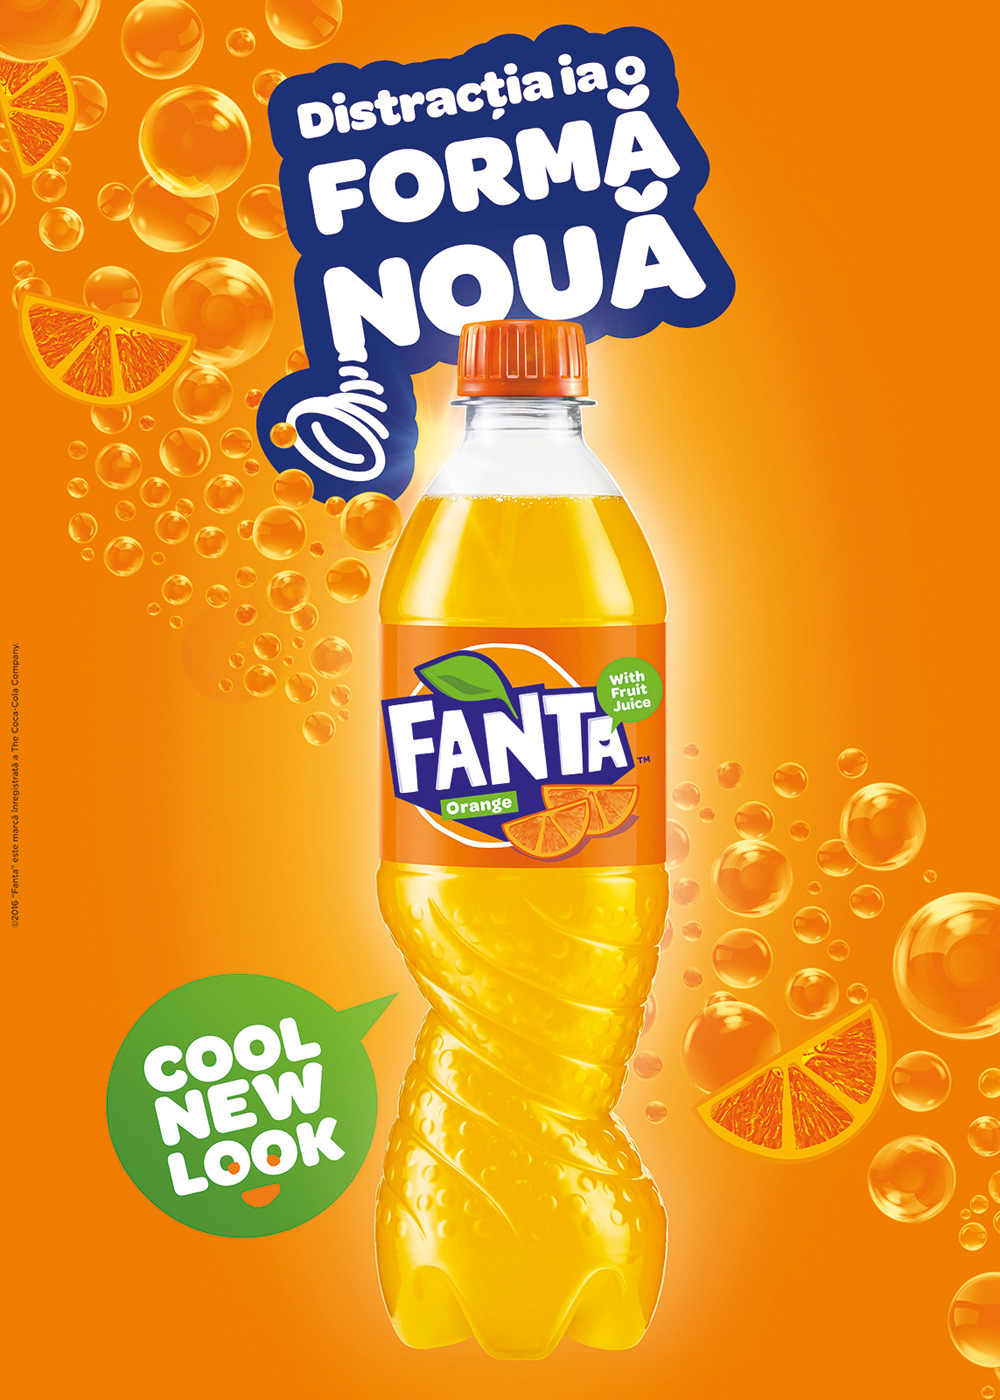Fanta: (341, 340, 673, 1382)
